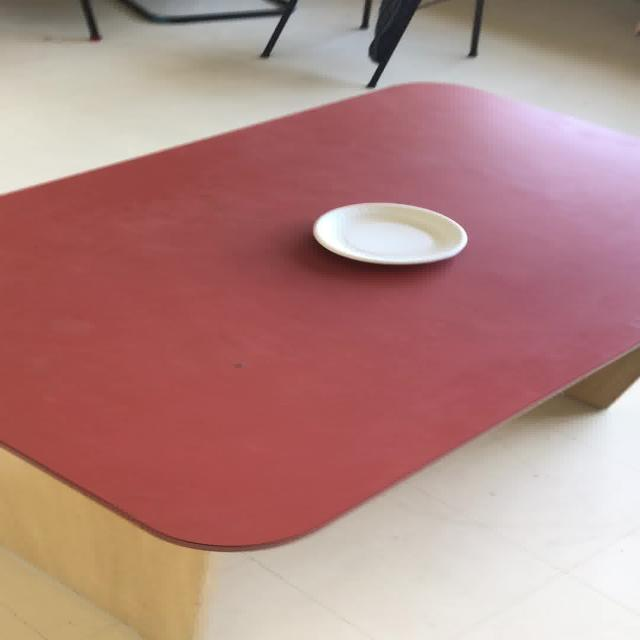plate: (311, 201, 468, 266)
